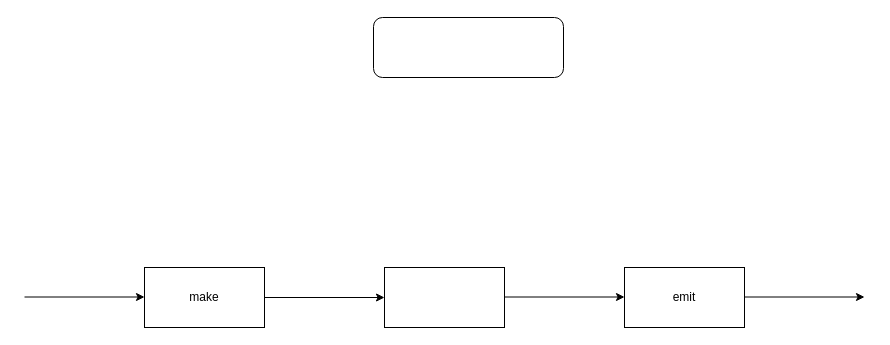
The diagram is 890 pixels wide and 345 high, and some of its shapes have lost their labels. Each missing label, with the box of its shape:
new Webpack(options): (372, 16, 564, 78)
seal: (384, 266, 504, 328)
